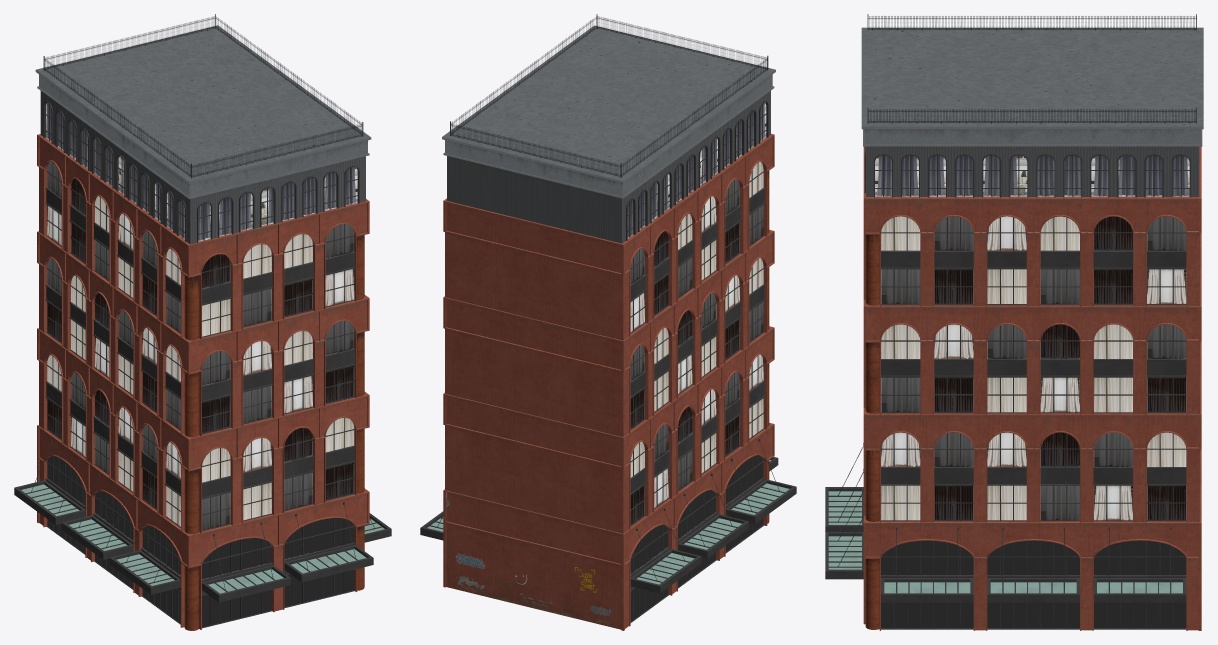
File: building_brick.glb
3 views of the same model, side by side, from view 1: azimuth 30°, elevation 25°; view 2: azimuth 150°, elevation 25°; view 3: azimuth 270°, elevation 25° (orthographic). The views are drawn at different scales.
Visible parts, largest first — view 1: pCylinder155_M_Building_E_GlassConcrete_0, pCylinder162_M_Building_E_Brick_0, group37_pCube70_M_Building_E_MultiMaterial_0, pCube97_M_Building_E_Alpha_0; view 2: pCylinder162_M_Building_E_Brick_0, pCylinder155_M_Building_E_GlassConcrete_0, group37_pCube70_M_Building_E_MultiMaterial_0, pCube97_M_Building_E_Alpha_0; view 3: pCylinder155_M_Building_E_GlassConcrete_0, pCylinder162_M_Building_E_Brick_0, group37_pCube70_M_Building_E_MultiMaterial_0, pCube97_M_Building_E_Alpha_0.
Boxes of the visible parts, x1,y1,x2,y2 form: pCylinder155_M_Building_E_GlassConcrete_0: (35,25,371,627); pCylinder162_M_Building_E_Brick_0: (37,134,369,629); group37_pCube70_M_Building_E_MultiMaterial_0: (14,14,391,630); pCube97_M_Building_E_Alpha_0: (40,16,367,573); pCylinder162_M_Building_E_Brick_0: (443,133,774,630); pCylinder155_M_Building_E_GlassConcrete_0: (442,25,775,621); group37_pCube70_M_Building_E_MultiMaterial_0: (420,14,796,622); pCube97_M_Building_E_Alpha_0: (445,16,772,628); pCylinder155_M_Building_E_GlassConcrete_0: (861,27,1203,628); pCylinder162_M_Building_E_Brick_0: (863,146,1201,630); group37_pCube70_M_Building_E_MultiMaterial_0: (825,14,1199,629); pCube97_M_Building_E_Alpha_0: (864,16,1199,567).
Bounding box in the file's own units: 17.72 × 32.84 × 21.61.
4 materials, 4 textured.
